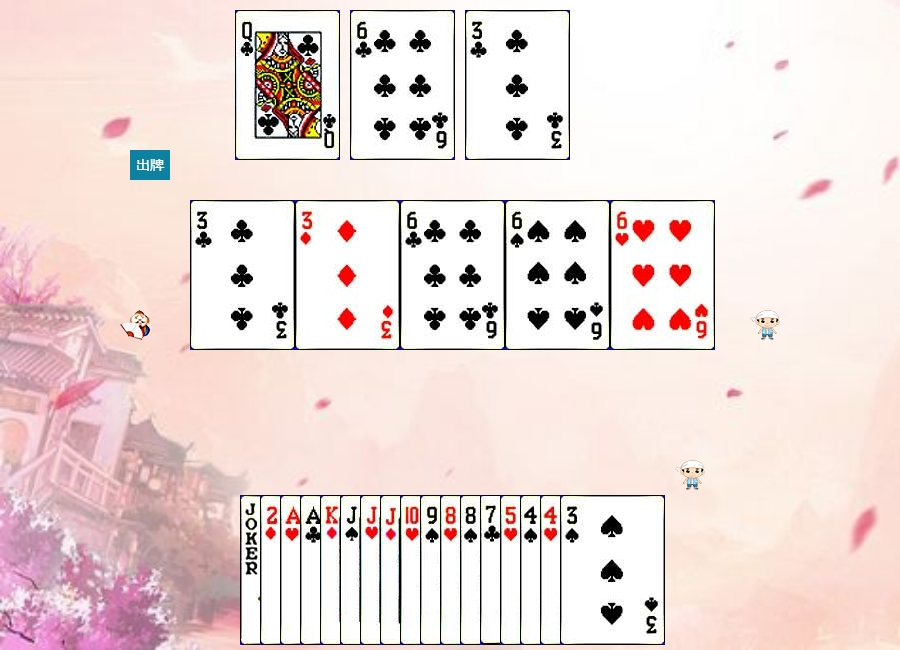10~3: (400, 495, 505, 645)
11~1: (380, 495, 485, 645)
11~3: (360, 495, 465, 645)
11~4: (340, 495, 445, 645)
12~2: (235, 10, 340, 160)
13~1: (320, 495, 425, 645)
14~2: (300, 495, 405, 645)
14~3: (280, 495, 385, 645)
15~1: (260, 495, 365, 645)
17~3: (240, 495, 345, 645)
3~1: (295, 200, 400, 350)
3~2: (465, 10, 570, 160), (190, 200, 295, 350)
3~4: (560, 495, 665, 645)
4~3: (540, 495, 645, 645)
4~4: (520, 495, 625, 645)
5~3: (500, 495, 605, 645)
6~2: (350, 10, 455, 160), (400, 200, 505, 350)
6~3: (610, 200, 715, 350)
6~4: (505, 200, 610, 350)
7~2: (480, 495, 585, 645)
8~3: (440, 495, 545, 645)
8~4: (460, 495, 565, 645)
9~4: (420, 495, 525, 645)
